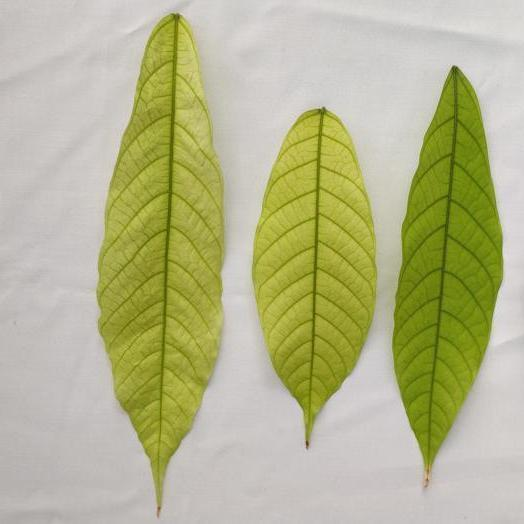Iron: (98, 14, 222, 514), (394, 66, 502, 485), (252, 107, 376, 446)
